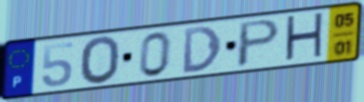0: (137, 29, 174, 79)
5: (40, 40, 76, 89)
D: (182, 24, 224, 76)
H: (282, 10, 326, 65)
O: (78, 34, 122, 87)
P: (234, 17, 284, 70)
